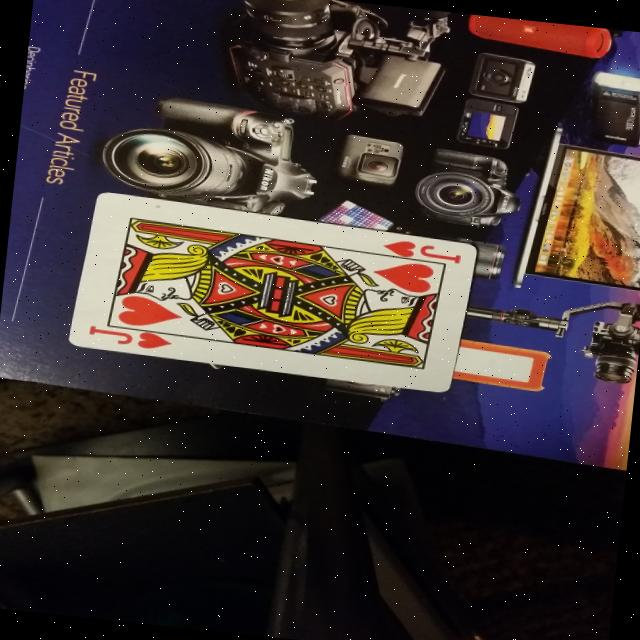Jh: (71, 318, 177, 356), (378, 238, 468, 270)
